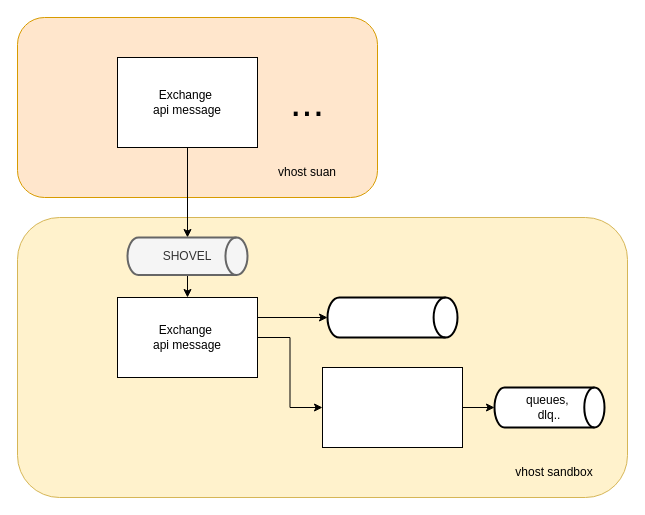
This 645x515 diagram has some shape labels left out. The shapes that lost their labels are listed below. From the top down, each one's centre as x and y in pixels, then its label:
At [392,317]: "All messages".
At [392,407]: "Mon echange prive".
